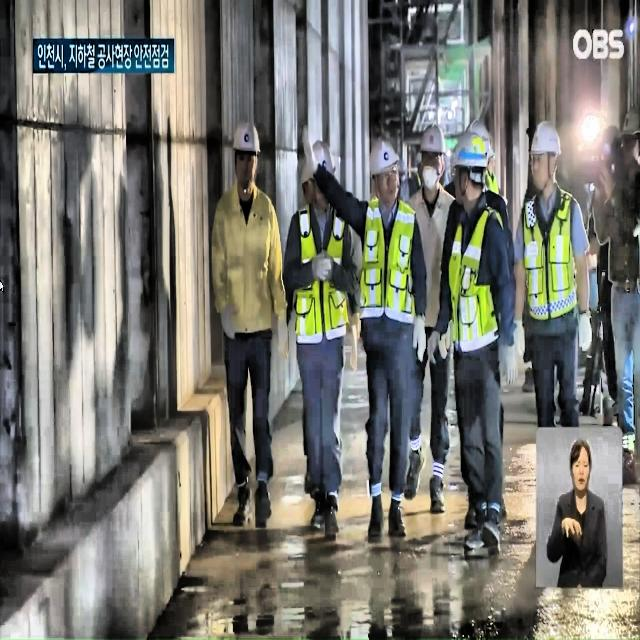safety_helmet: (528, 114, 562, 160), (451, 132, 486, 170), (368, 137, 400, 178), (468, 114, 494, 160), (232, 118, 262, 156), (418, 122, 447, 159), (310, 140, 336, 177), (618, 107, 640, 140), (300, 161, 314, 185)
safety_jacket: (447, 208, 506, 354), (358, 196, 417, 322), (296, 205, 350, 340), (524, 192, 580, 320), (486, 171, 499, 195)
